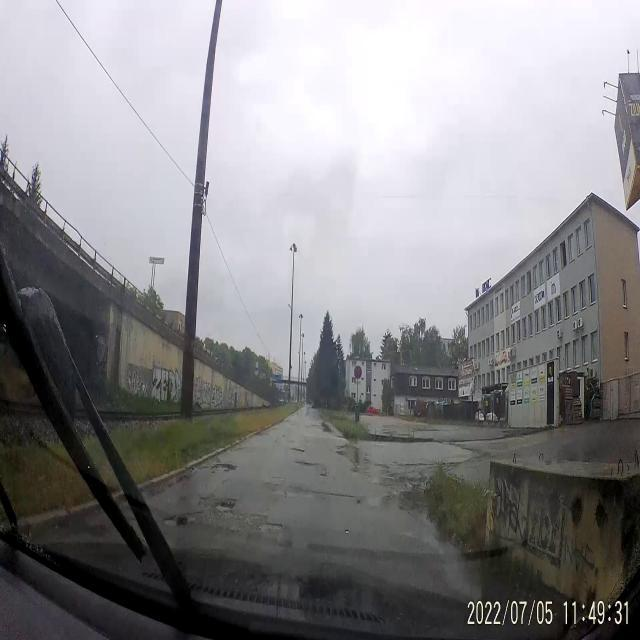Pothole: (284, 480, 368, 515), (204, 442, 240, 478), (202, 482, 237, 516), (244, 512, 286, 538), (162, 504, 192, 529), (292, 454, 322, 476), (286, 438, 309, 452)
